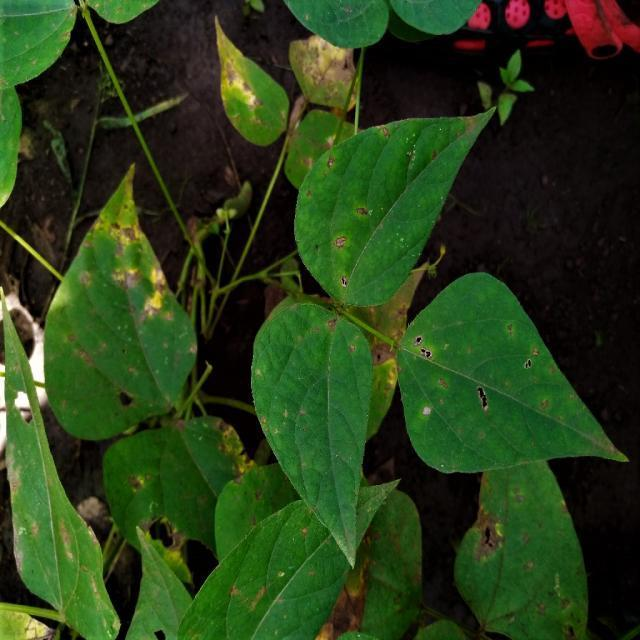hawar: (205, 103, 590, 514)
mozaik: (60, 158, 247, 353)
